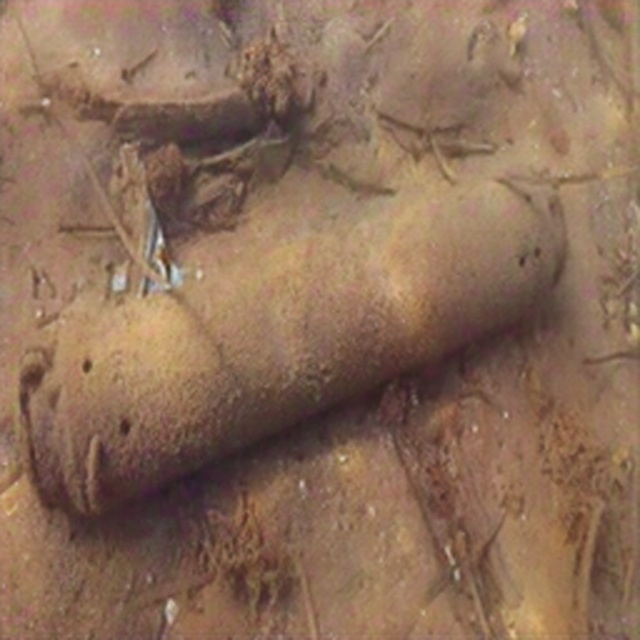mine: (16, 171, 565, 519)
